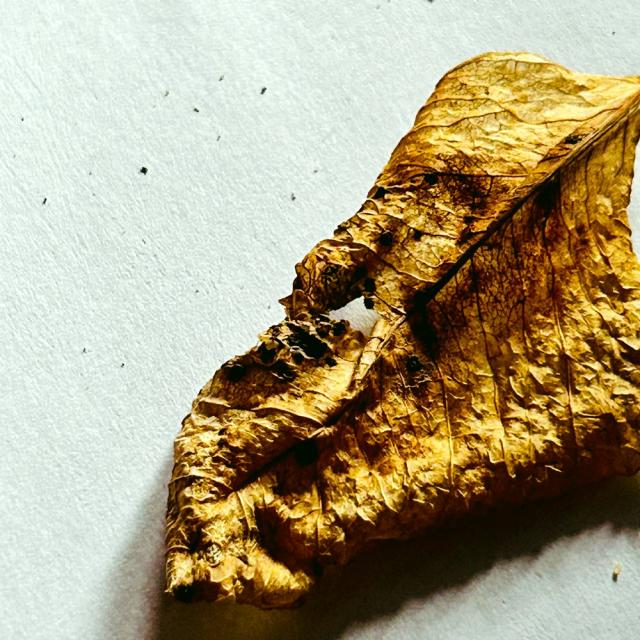DryLeaf_Lemon: (166, 52, 639, 609)
